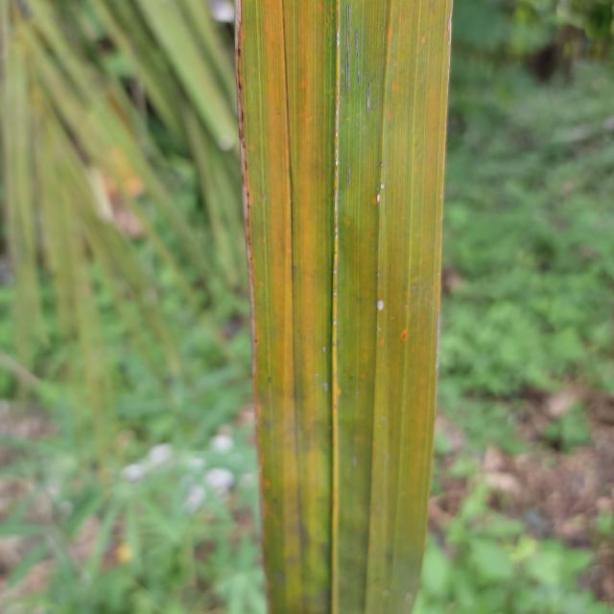Megnesium: (232, 0, 451, 614)
